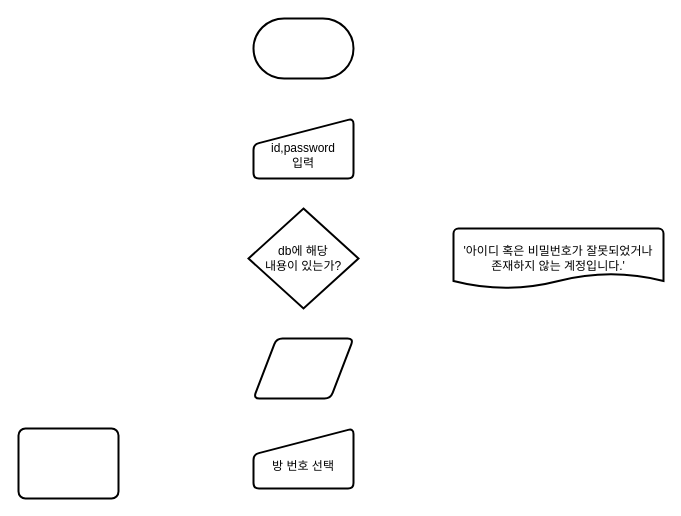
This 681x516 diagram has some shape labels left out. Here are the shapes that lost their labels. From the top down, the box of each, then its label:
(252, 17, 354, 79): 시작
(252, 337, 354, 399): 방 목록 출력
